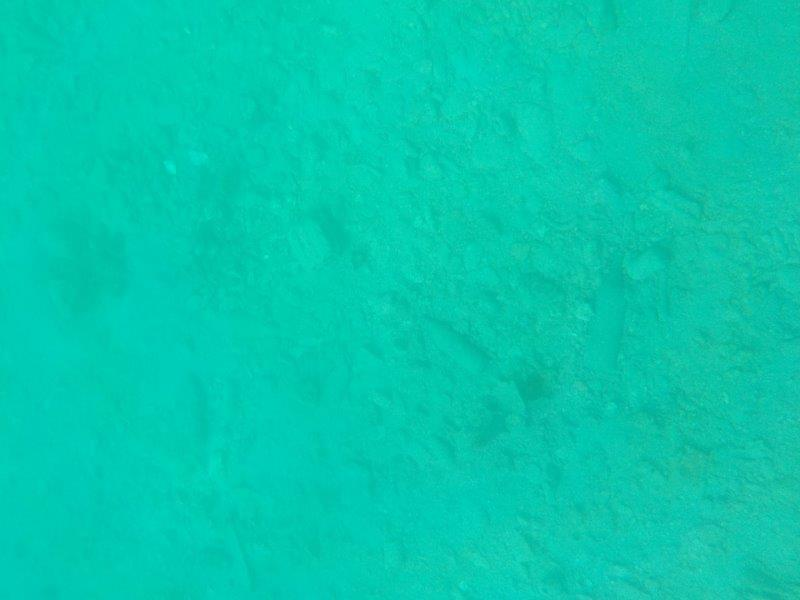bottle: (579, 243, 639, 375), (409, 311, 494, 379)
